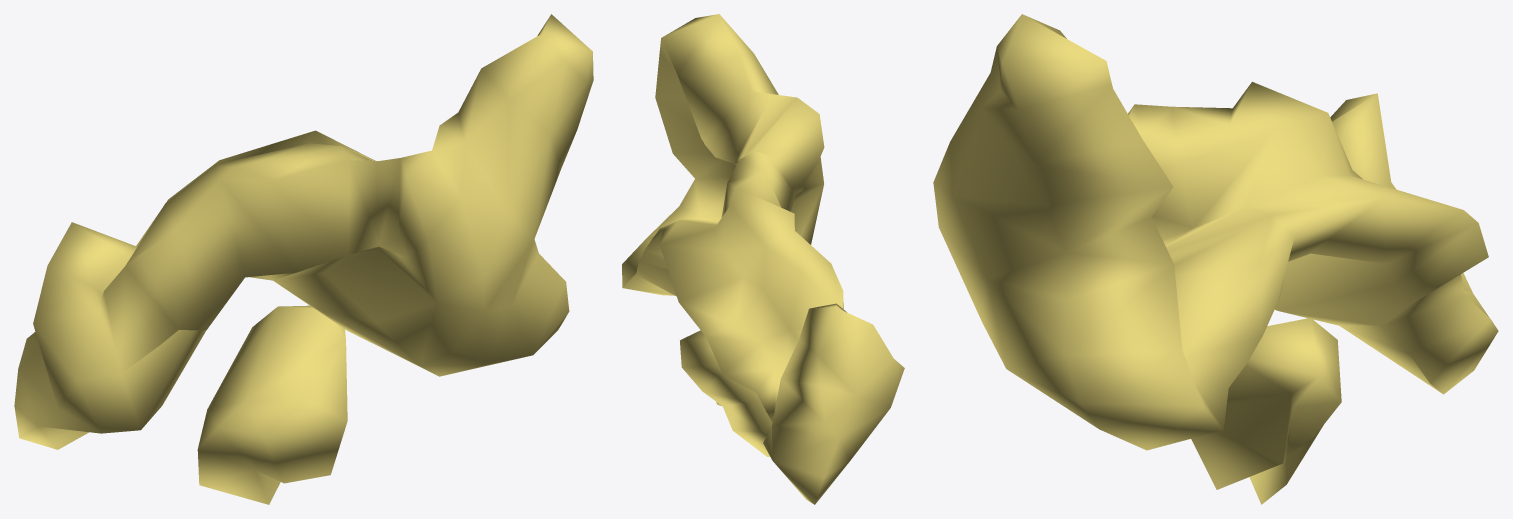
The model's file is lunate-sulcus-l.glb.
3 views of the same model, side by side, from view 1: azimuth 30°, elevation 25°; view 2: azimuth 150°, elevation 25°; view 3: azimuth 270°, elevation 25° (orthographic). The views are drawn at different scales.
Visible parts, largest first — view 1: Lunate sulcus.l; view 2: Lunate sulcus.l; view 3: Lunate sulcus.l.
Part boxes in pixels (<box>): Lunate sulcus.l: <box>14,14,593,504</box>; Lunate sulcus.l: <box>622,14,904,504</box>; Lunate sulcus.l: <box>933,14,1498,504</box>.
Bounding box in the file's own units: 0.0217 × 0.0241 × 0.021.
